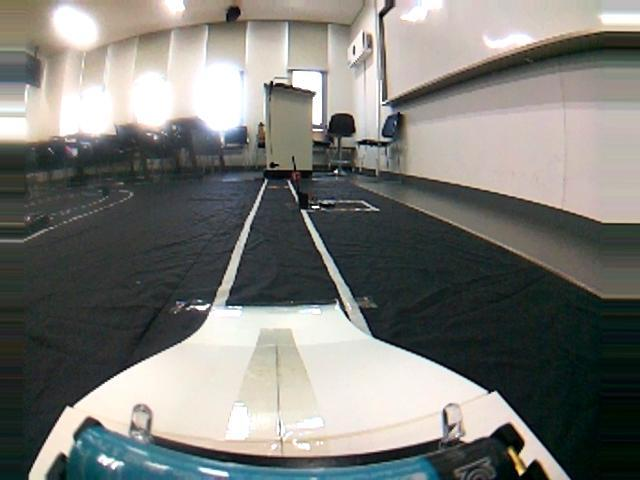hill_down: (41, 280, 640, 480)
